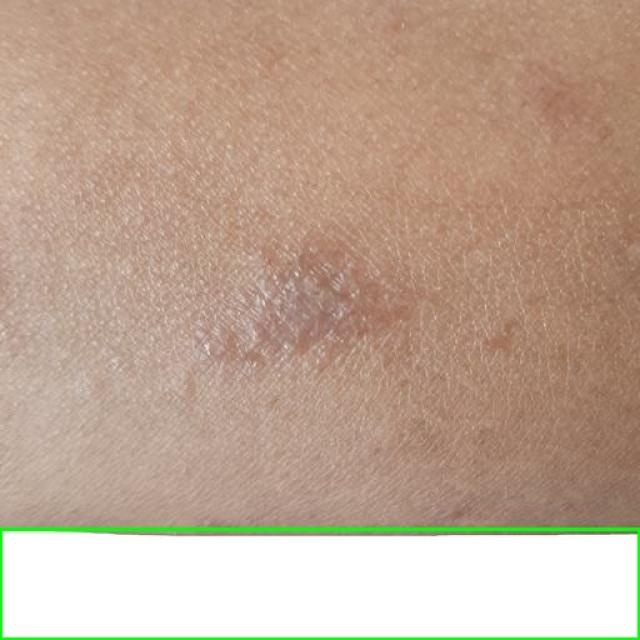Scabies: (0, 529, 639, 639)
